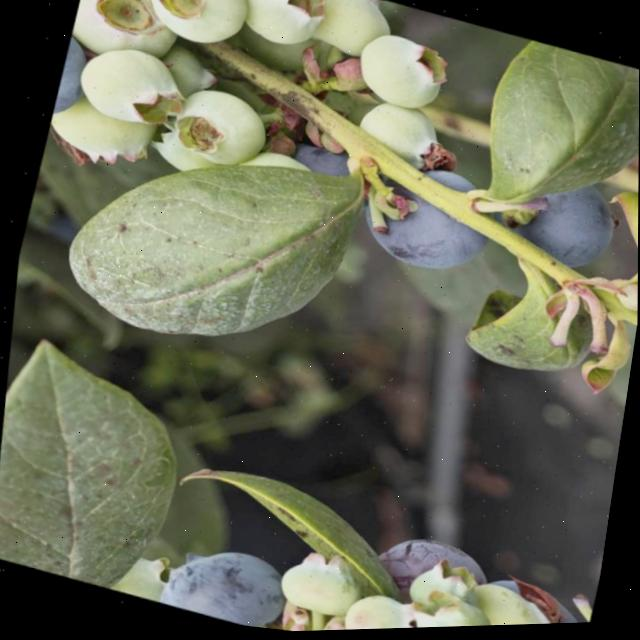RipeBlueBerry: (146, 528, 289, 635)
UnripeBlueBerry: (65, 32, 193, 136), (162, 78, 278, 177), (346, 25, 457, 120), (133, 0, 258, 57), (226, 0, 329, 56), (329, 584, 430, 632), (401, 582, 499, 631)
